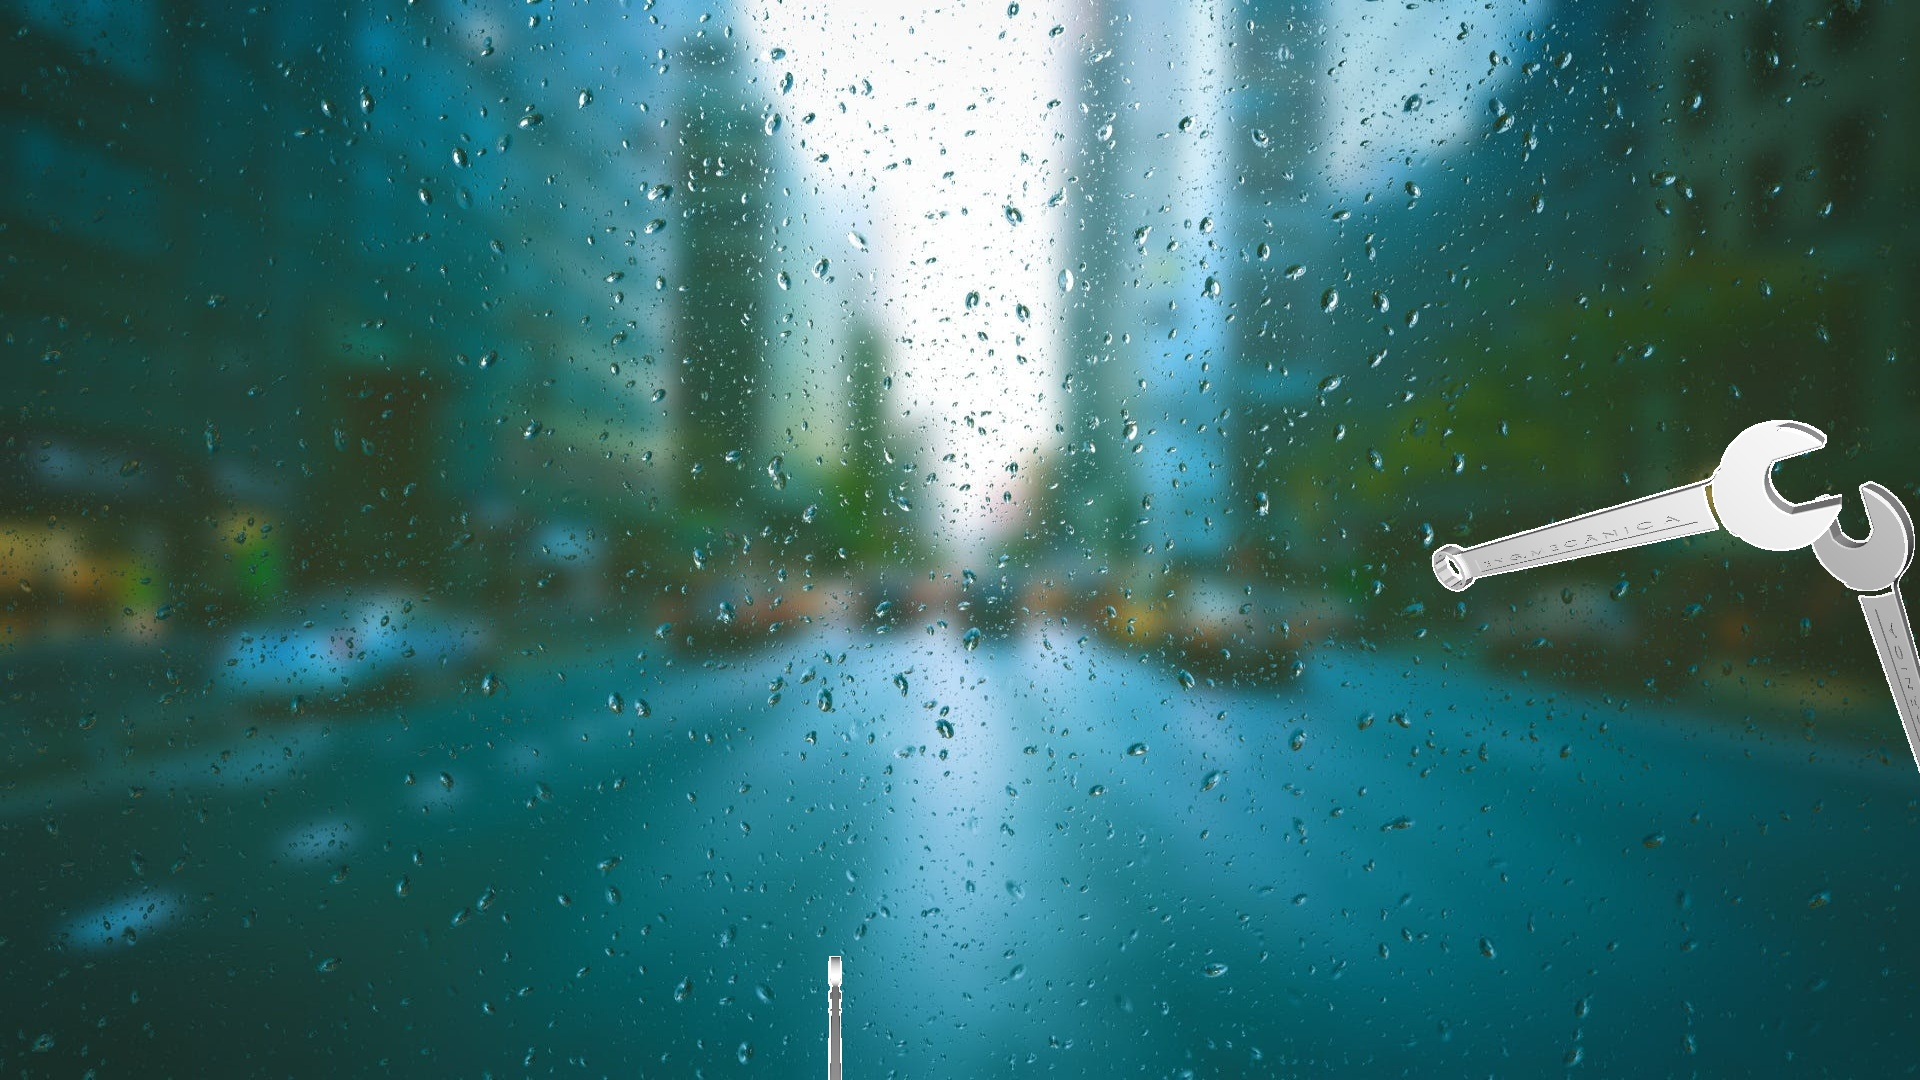Mixed Key: (1432, 421, 1841, 591), (1811, 481, 1919, 771), (828, 956, 841, 1079)
